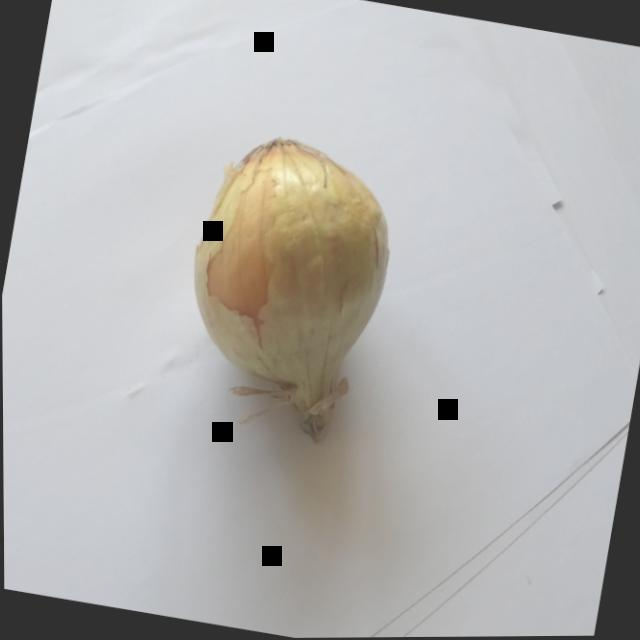Onion: (149, 102, 430, 474)
